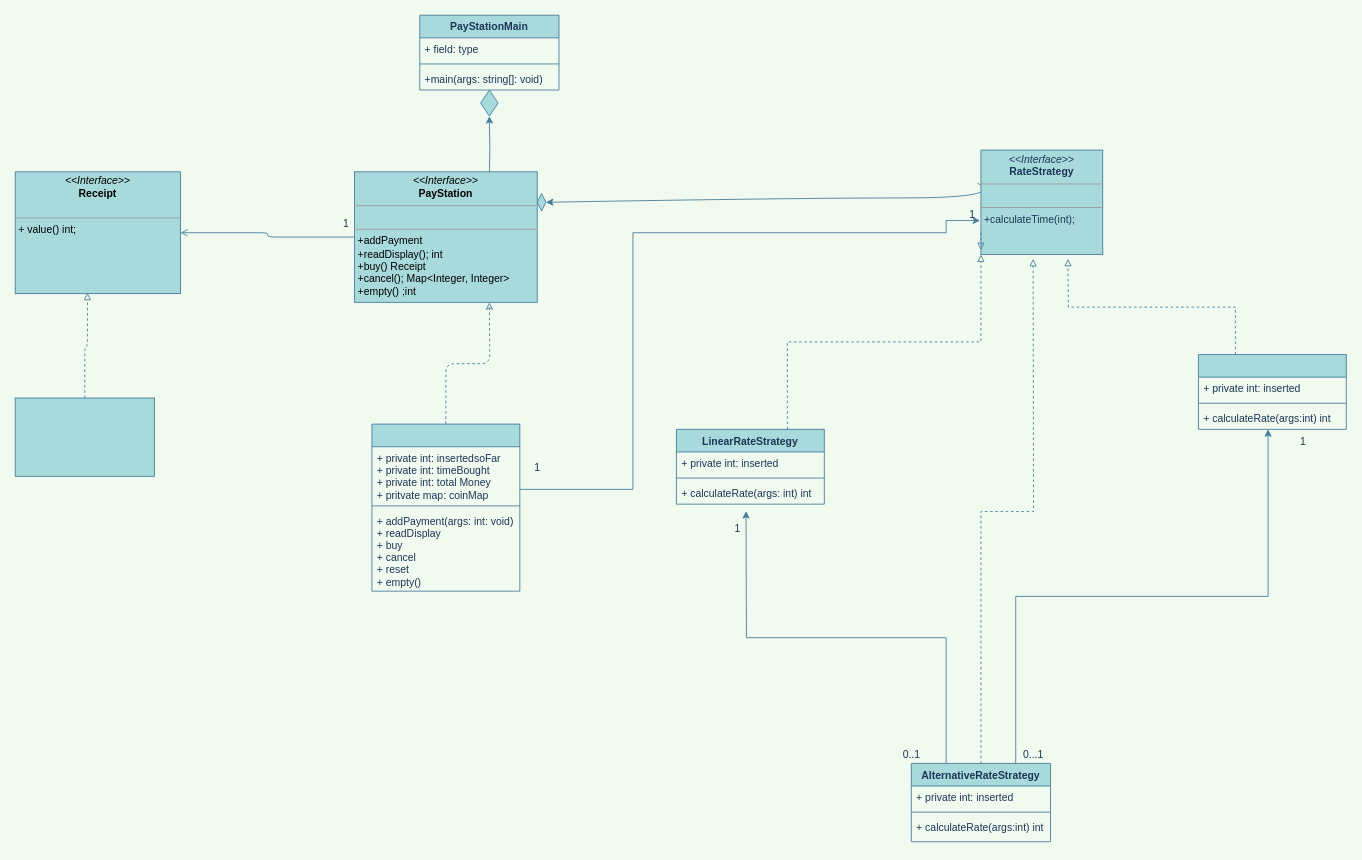
This 1362x860 diagram has some shape labels left out. The box of each missing label's shape, as (x1, y1, x2, y2) in pixels:
Paystation.impl: (371, 423, 520, 591)
ProgressiveRateStrategy: (1198, 354, 1346, 429)
Receiptimpl + value;int: (14, 397, 154, 476)
